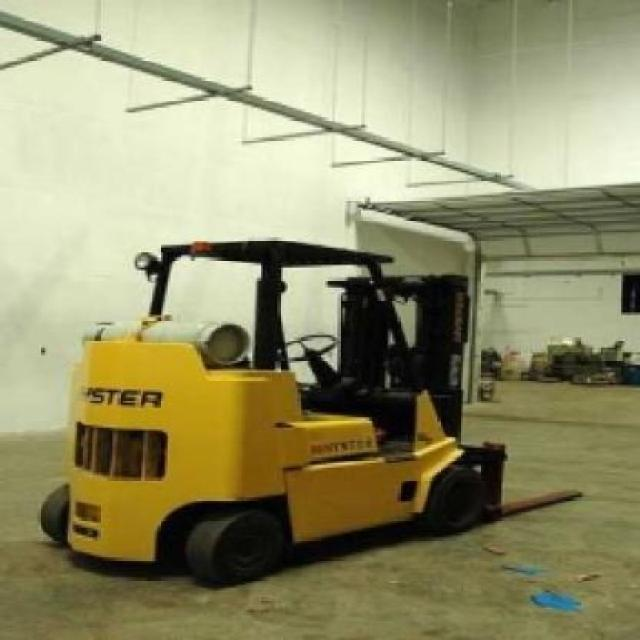forklift: (40, 240, 508, 586)
